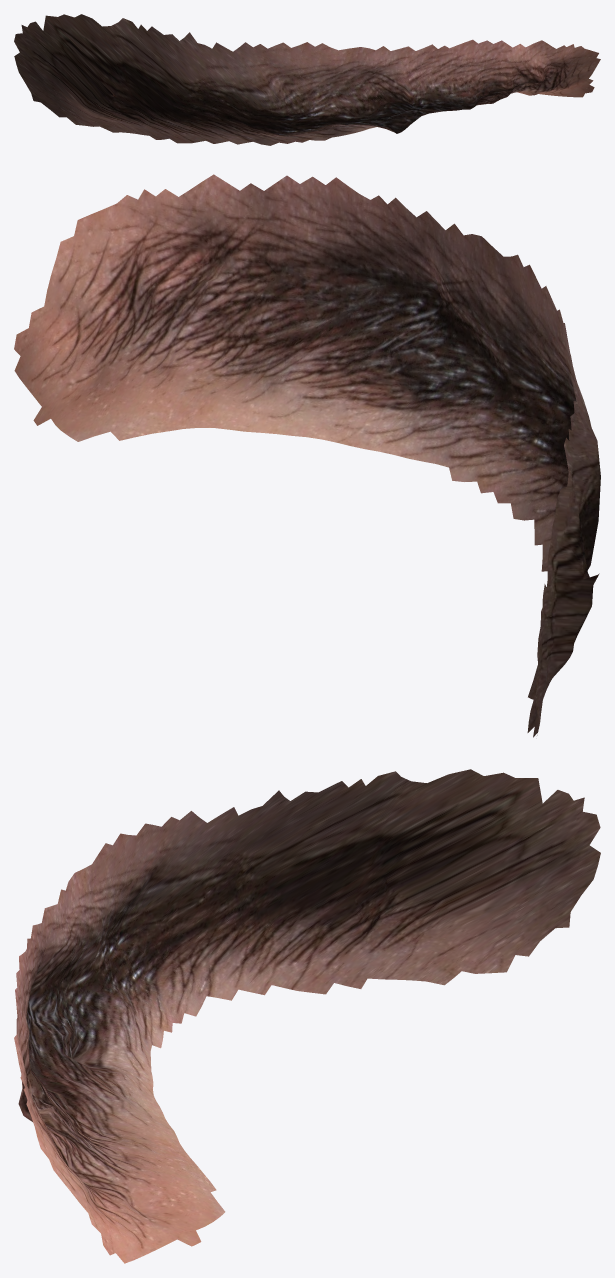
The model's file is eyebrow01right.obj.
3 views of the same model, one above another, from view 1: azimuth 30°, elevation 25°; view 2: azimuth 150°, elevation 25°; view 3: azimuth 270°, elevation 25° (orthographic). The views are drawn at different scales.
Size of the model in its own units: 59.76 by 18.54 by 42.47.
Materials: 1 (1 with a texture image).
